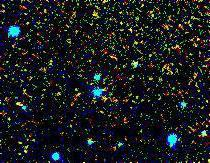star: (43, 75, 73, 105)
